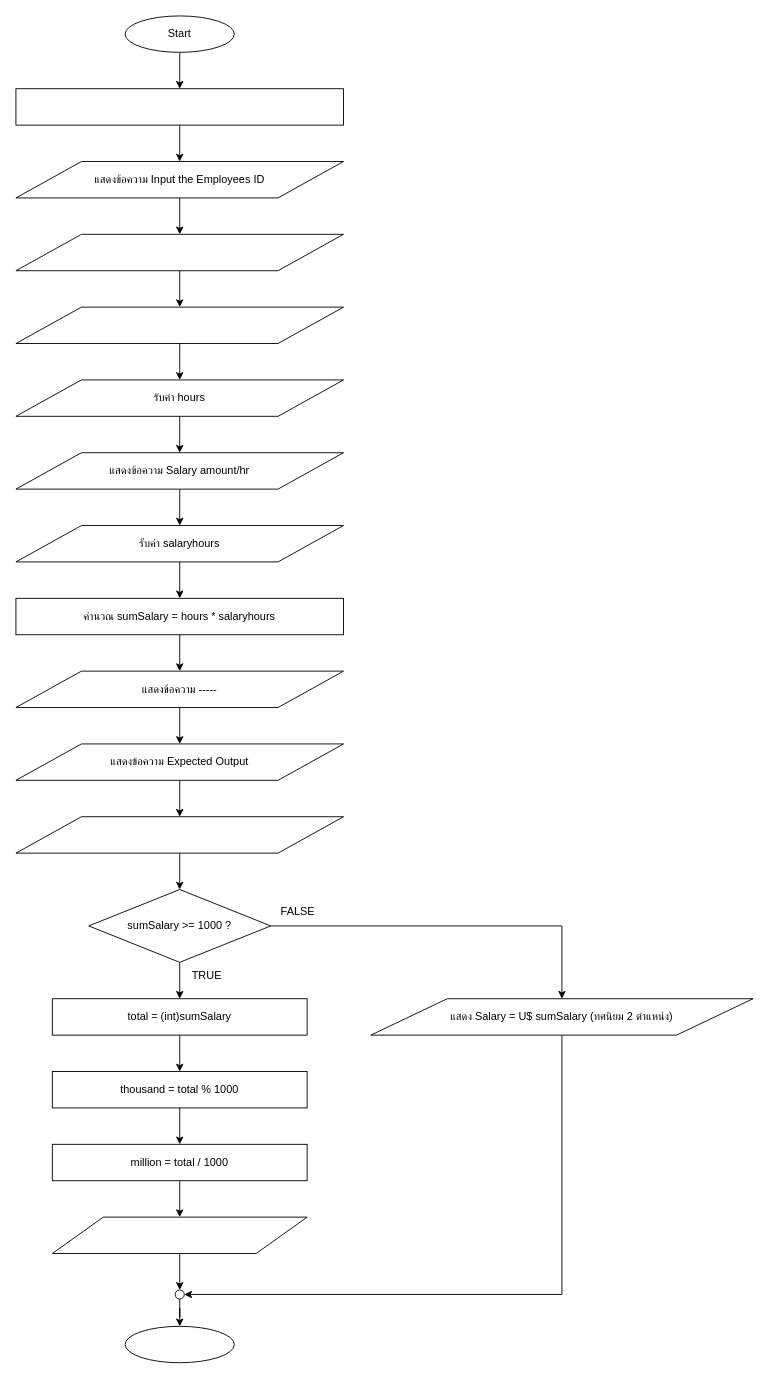
This 769x1379 diagram has some shape labels left out. The centre of each missing label's shape, as x and y in pixels:
"Stop" goes at (x=179, y=1344).
"กำหนดตัวแปร ID[11], hours, salaryhours, sumSalary" goes at (x=179, y=106).
"รับค่า ID" goes at (x=179, y=252).
"แสดง Employees ID = ID" goes at (x=179, y=834).
"แสดง Salary = U$ million,thousand.00" goes at (x=179, y=1235).
"แสดงข้อความ Input the working hrs" goes at (x=179, y=325).
